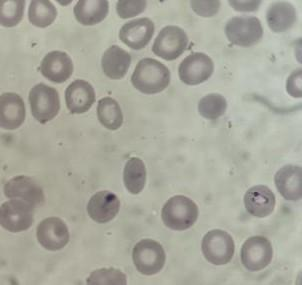Infected: (245, 185, 277, 217)
Uninfected: (131, 58, 171, 93), (4, 175, 45, 209), (161, 195, 198, 231), (153, 25, 188, 61), (132, 238, 165, 276), (29, 83, 61, 122), (36, 216, 70, 251), (201, 229, 234, 265), (119, 16, 155, 49), (224, 16, 262, 47), (87, 190, 120, 225), (241, 236, 273, 272), (179, 53, 213, 86), (40, 49, 73, 83), (101, 44, 132, 80), (66, 79, 97, 114), (266, 1, 297, 34), (1, 200, 33, 231), (0, 91, 26, 129), (95, 96, 122, 130), (123, 157, 147, 195), (27, 0, 57, 29), (75, 0, 108, 26), (199, 91, 228, 117), (0, 1, 27, 28)
